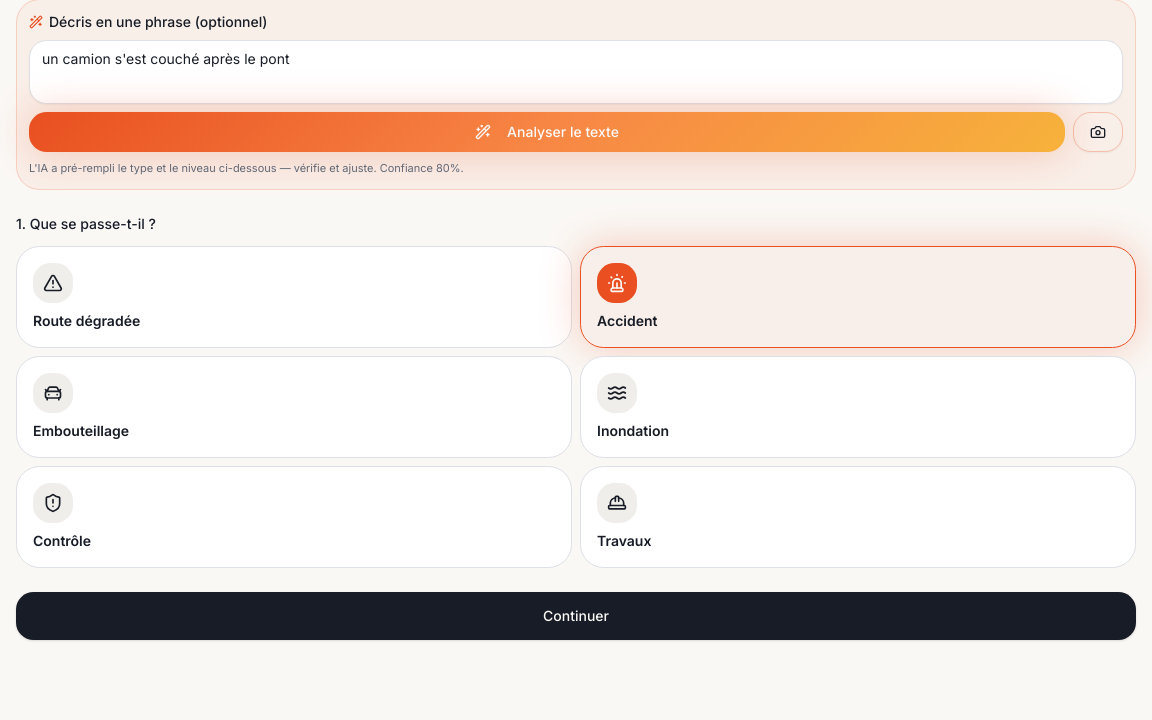
Test case: Report's AI assist pre-selects the type from a free-text description
The width and height of the screenshot is (1152, 720).
Earlier steps of the test are not shown.
(page scrolled)
Expected: the text "pré-rempli" is shown, x1=29 y1=161 x2=436 y2=175
Step 1. Click the button "Continuer" → (576, 616), box x1=16 y1=592 x2=1136 y2=640
(page scrolled)
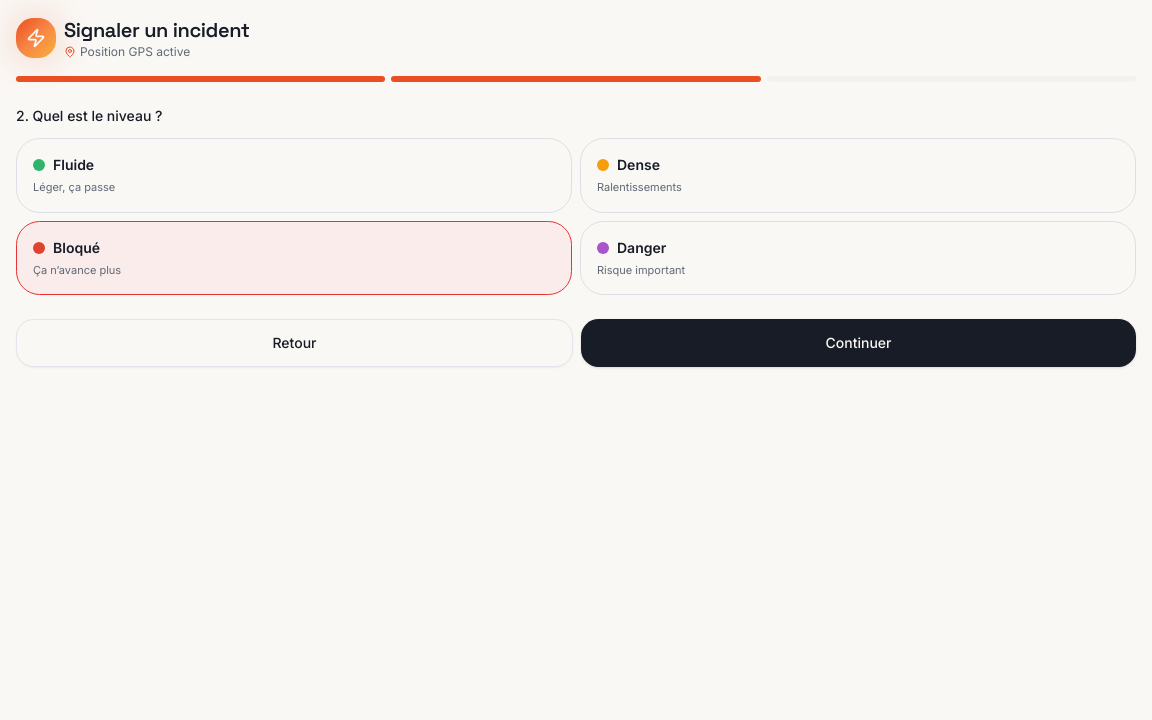
Expected: the text "2. Quel est le niveau ?" is shown, x1=16 y1=107 x2=162 y2=124
